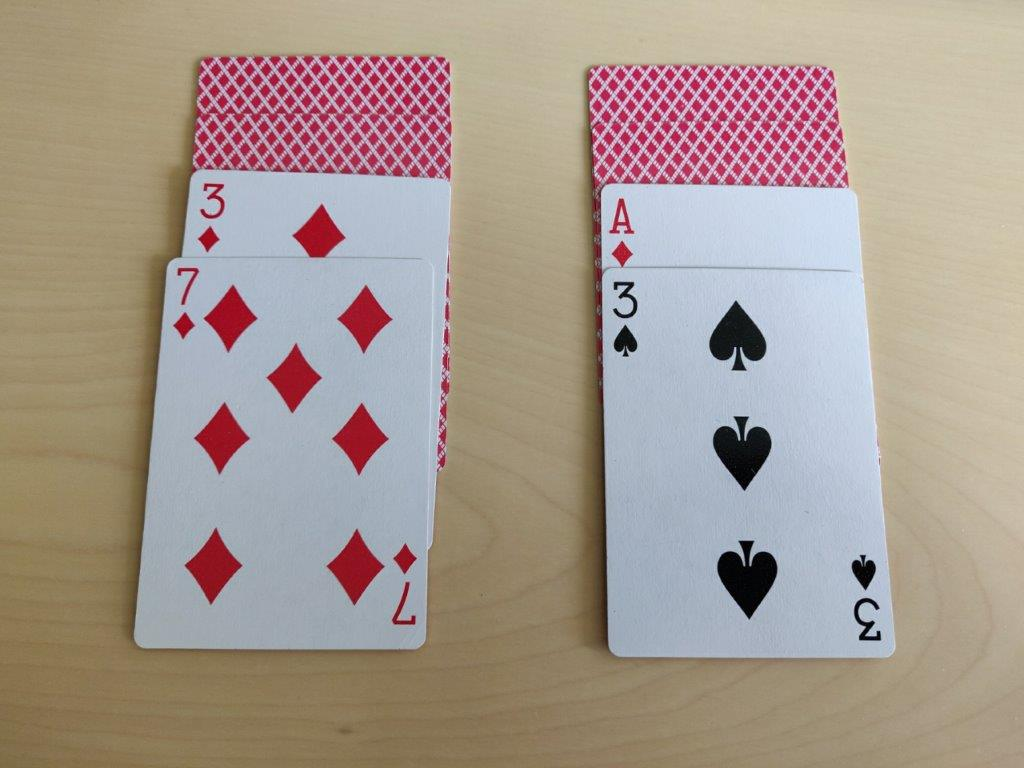3D: (192, 174, 230, 258)
3S: (609, 276, 647, 361)
7D: (170, 262, 201, 342)
AD: (607, 188, 638, 271)
BACK: (190, 112, 457, 176), (589, 125, 851, 189), (190, 53, 459, 115), (585, 64, 844, 120)
